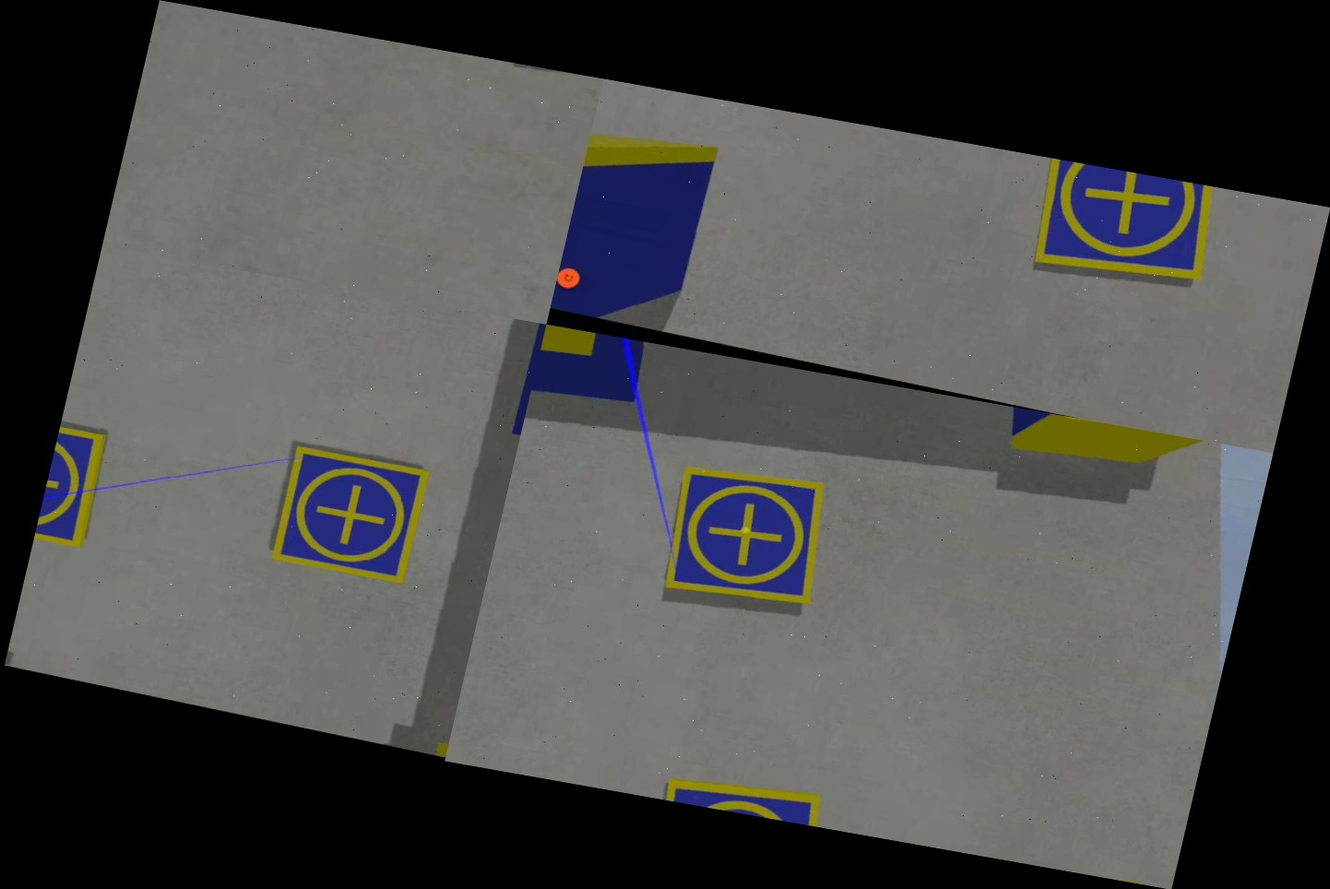small_base: (647, 451, 843, 623), (1014, 156, 1227, 303), (263, 444, 436, 590), (659, 761, 841, 829), (32, 421, 116, 553)
